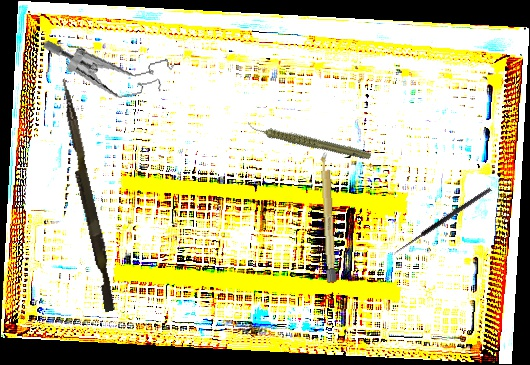Handpiece: (245, 95, 374, 185)
Hook Surgical: (391, 186, 496, 261)
Pusher: (52, 77, 121, 313)
Scalpel Handle: (320, 150, 337, 284)
Speculum: (41, 15, 181, 115)
